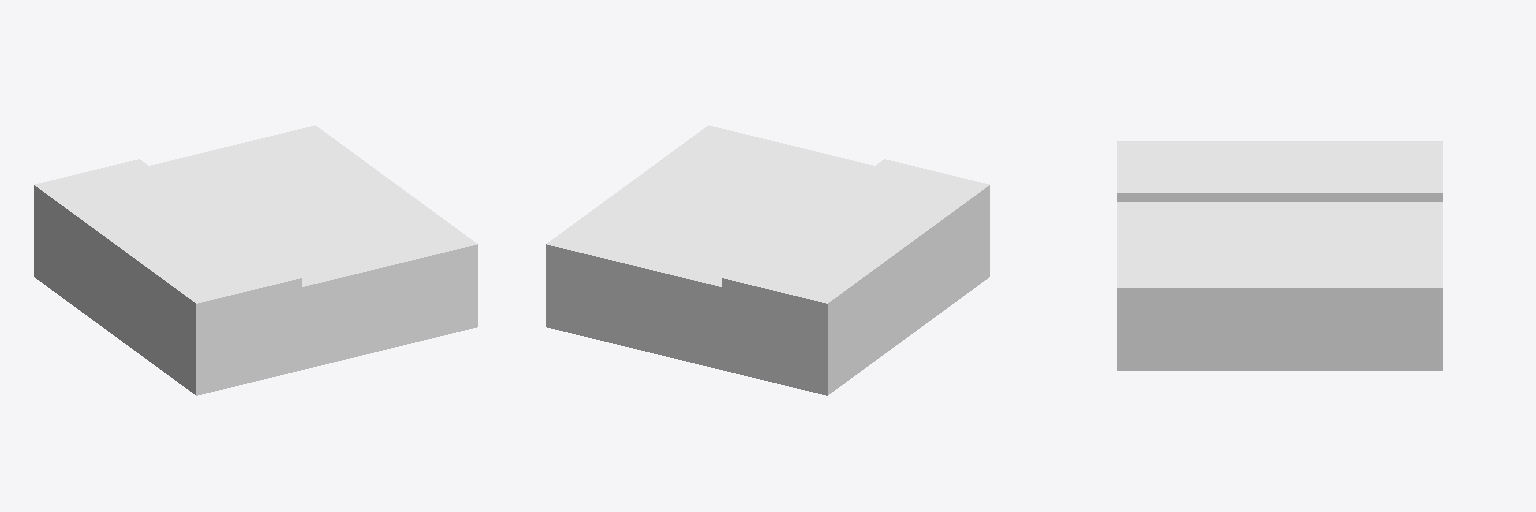
The model's file is Overworld_Ocean_16.obj.
3 views of the same model, side by side, from view 1: azimuth 30°, elevation 25°; view 2: azimuth 150°, elevation 25°; view 3: azimuth 270°, elevation 25° (orthographic).
Visible parts, largest first — view 1: object 1; view 2: object 1; view 3: object 1.
Boxes of the visible parts, <box> form: object 1: <box>34,125,477,395</box>; object 1: <box>546,125,989,395</box>; object 1: <box>1117,141,1442,370</box>.
Bounding box in the file's own units: 3.2 × 1 × 3.2.